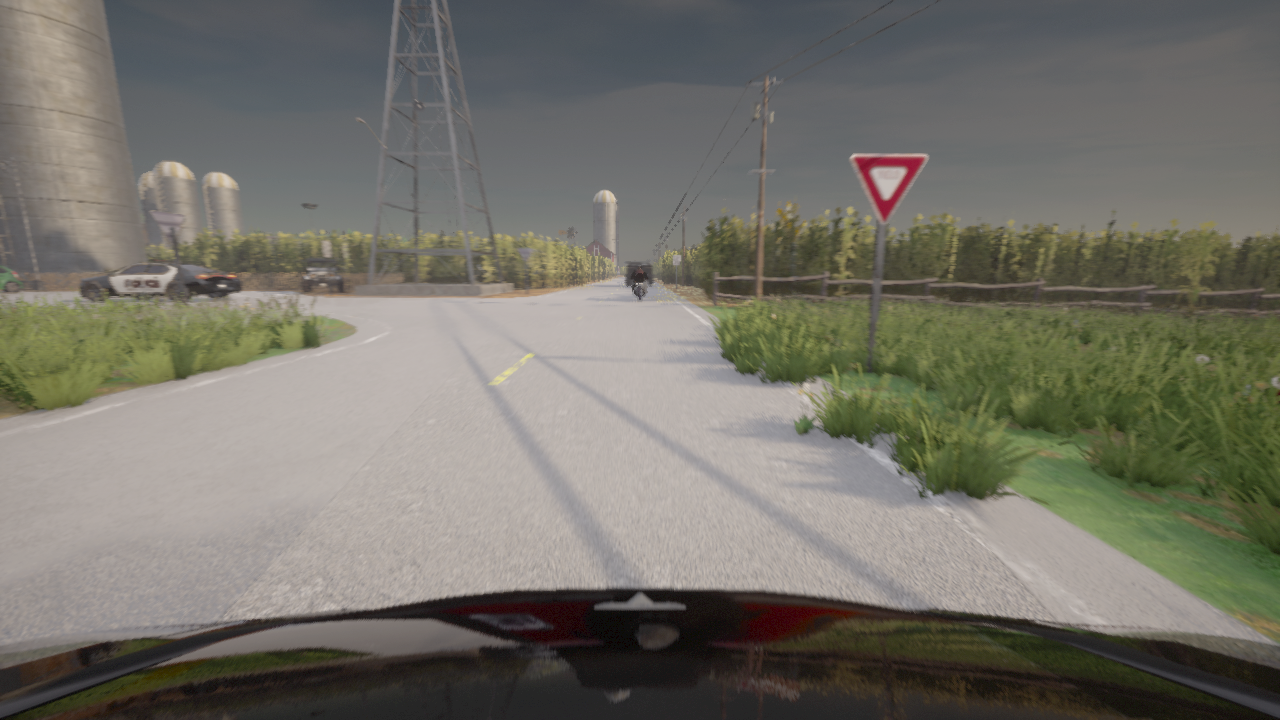cyclist: (0, 588, 1279, 719), (79, 259, 241, 301), (301, 259, 344, 293), (625, 262, 653, 285), (630, 273, 648, 301)
